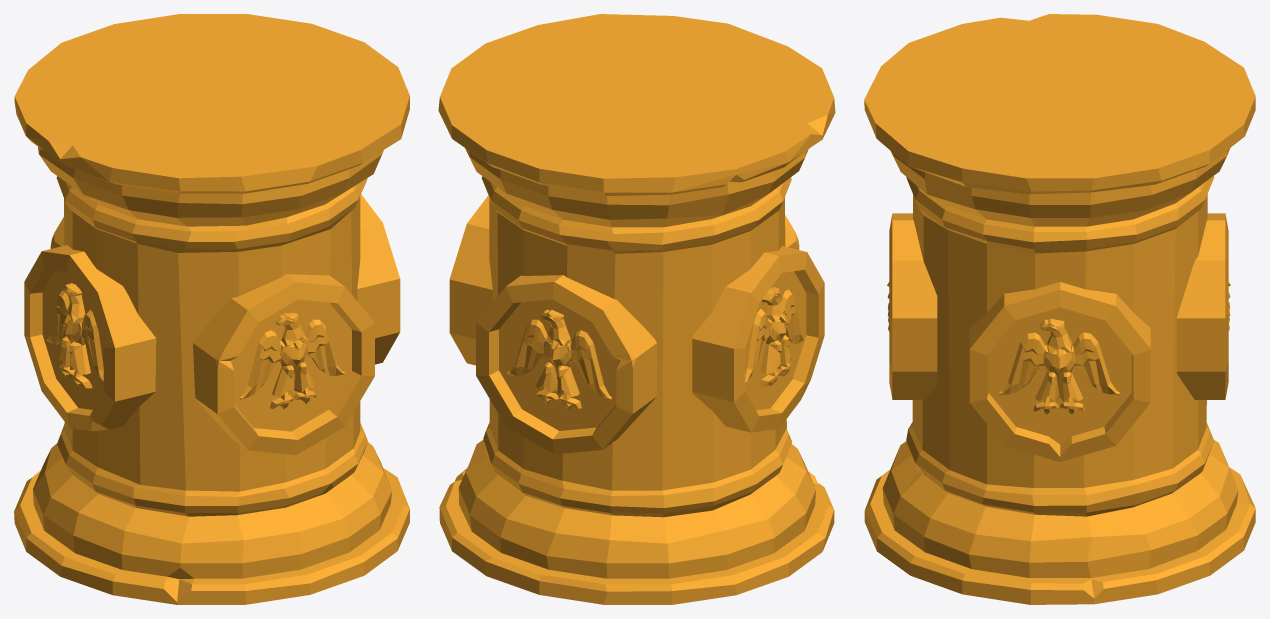
File: SM_Pedestal_Cylindrical_B_Fantasy.fbx
3 renders of one model, left to right at view 1: azimuth 30°, elevation 25°; view 2: azimuth 150°, elevation 25°; view 3: azimuth 270°, elevation 25°, orthographic.
Visible parts, largest first — view 1: SM_Pedestal_Cylindrical_Fantasy_B; view 2: SM_Pedestal_Cylindrical_Fantasy_B; view 3: SM_Pedestal_Cylindrical_Fantasy_B.
Boxes of the visible parts, x1=… form: SM_Pedestal_Cylindrical_Fantasy_B: x1=14, y1=14, x2=409, y2=604; SM_Pedestal_Cylindrical_Fantasy_B: x1=438, y1=14, x2=835, y2=604; SM_Pedestal_Cylindrical_Fantasy_B: x1=864, y1=14, x2=1255, y2=604.
Bounding box in the file's own units: 1 × 1.2 × 1.
